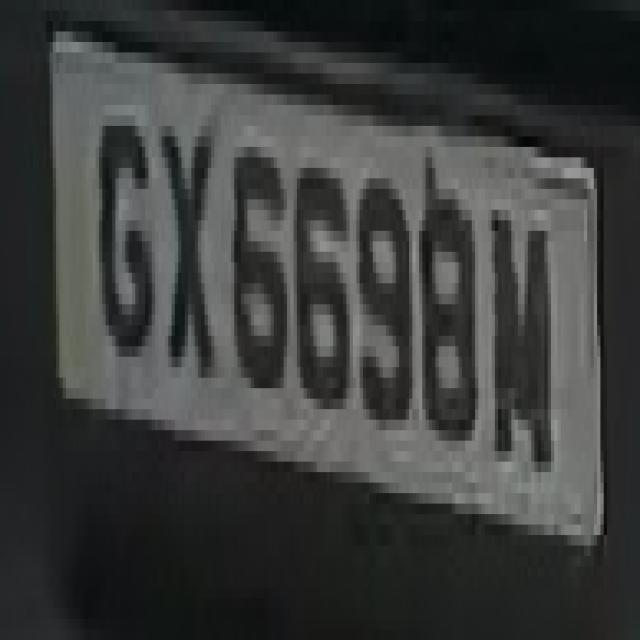6: (284, 116, 353, 451), (221, 126, 290, 399)
8: (419, 126, 485, 504)
9: (347, 147, 422, 430)
G: (89, 84, 155, 399)
M: (472, 158, 564, 482)
X: (158, 84, 228, 409)
